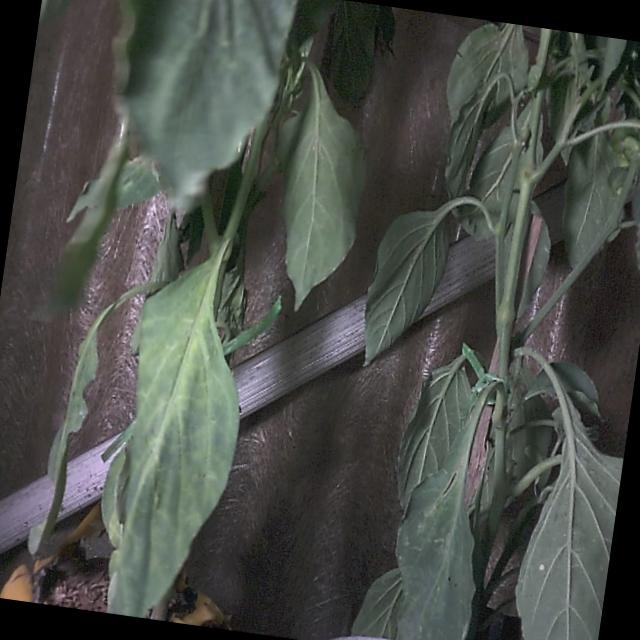Leaf: (98, 266, 264, 628), (262, 79, 384, 320), (378, 433, 500, 640), (356, 200, 457, 378)
